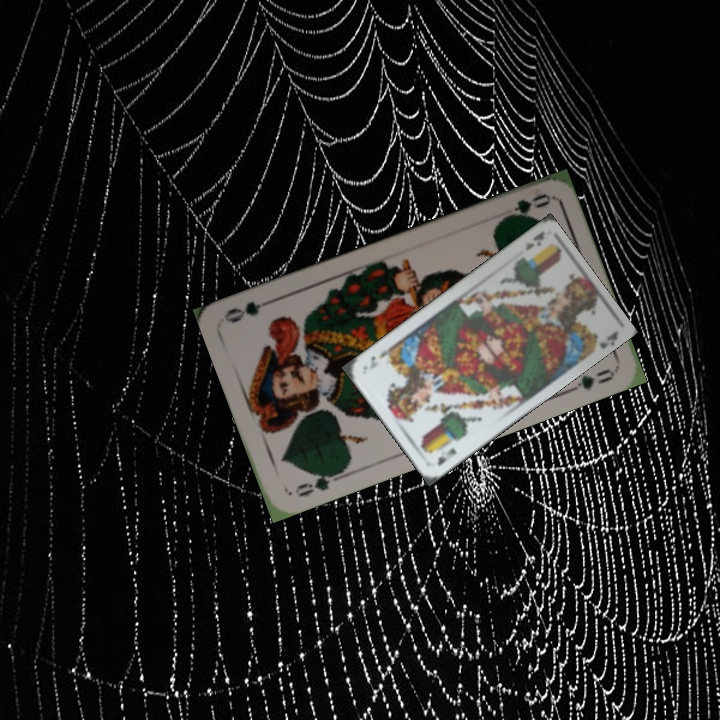EK: (520, 227, 547, 253), (433, 444, 459, 468)
GO: (496, 189, 552, 225), (290, 468, 346, 500)
